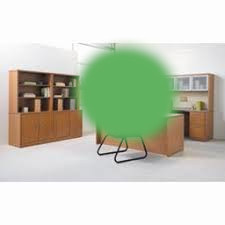focus: (74, 44, 179, 147)
